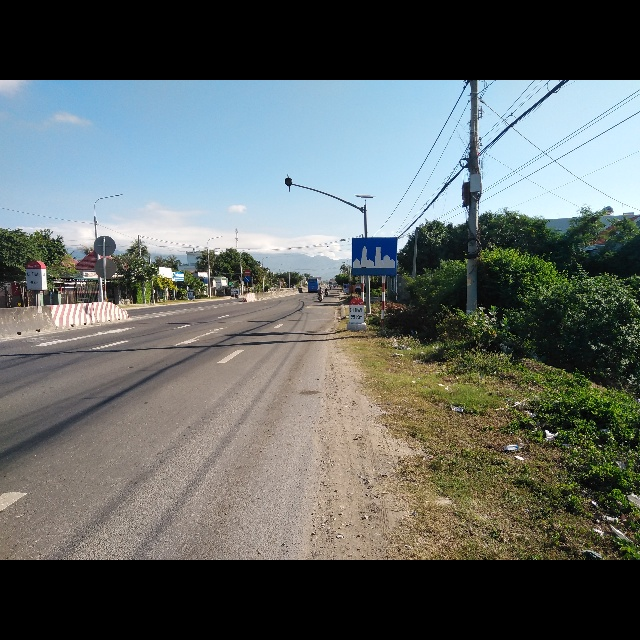Khu đông dân cư: (351, 236, 399, 275)
